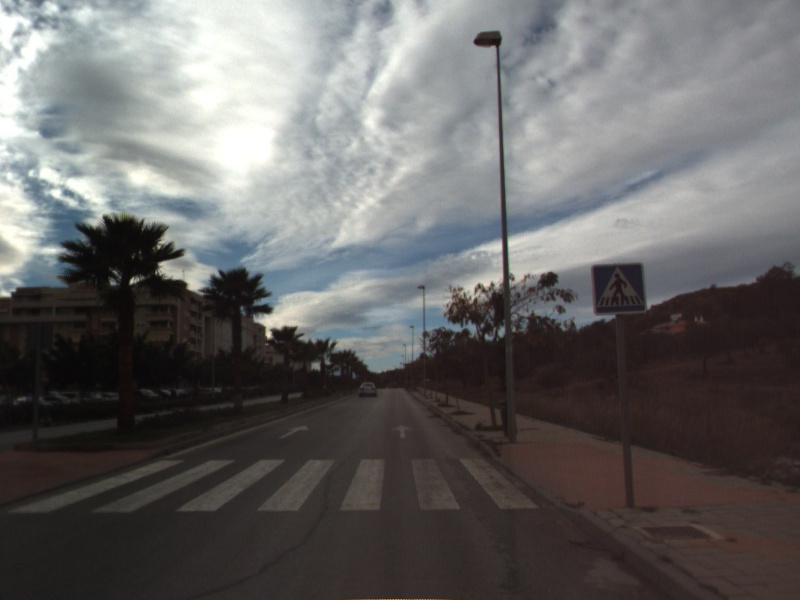STRAIGHT: (276, 423, 311, 441), (390, 423, 414, 440)
